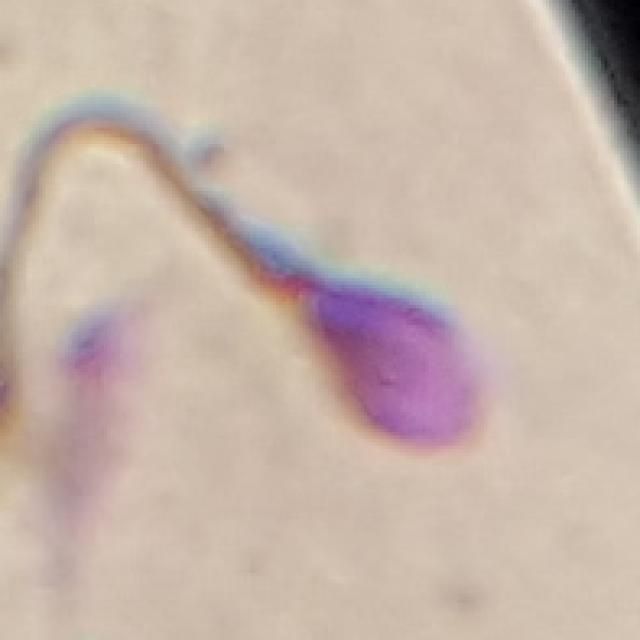normal sperm: (230, 225, 488, 450)
